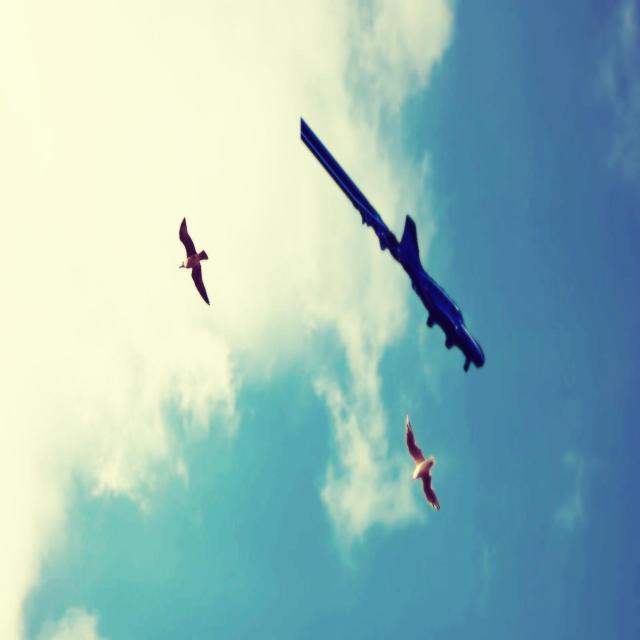airplane: (299, 115, 485, 373)
